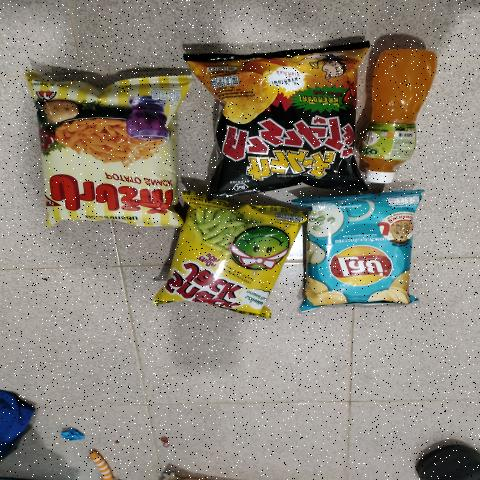karamujo: (225, 57, 354, 187)
lay_blue: (310, 200, 407, 305)
paprika: (50, 76, 163, 221)
snack_jack: (173, 216, 302, 302)
